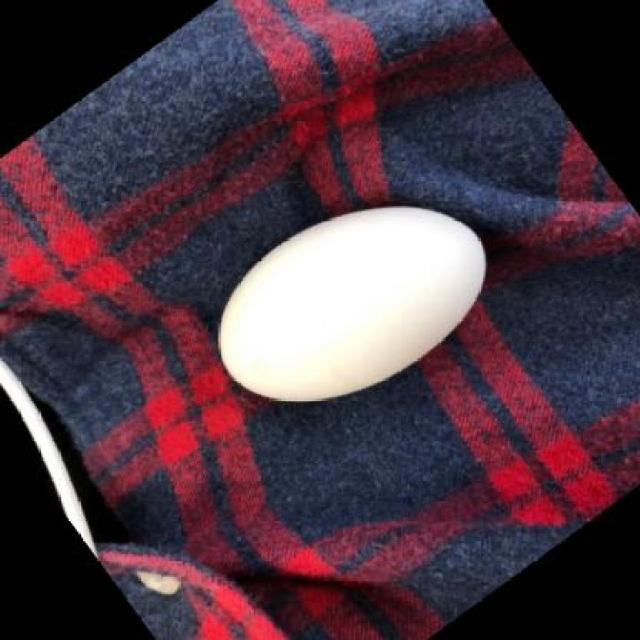egg: (213, 200, 492, 407)
